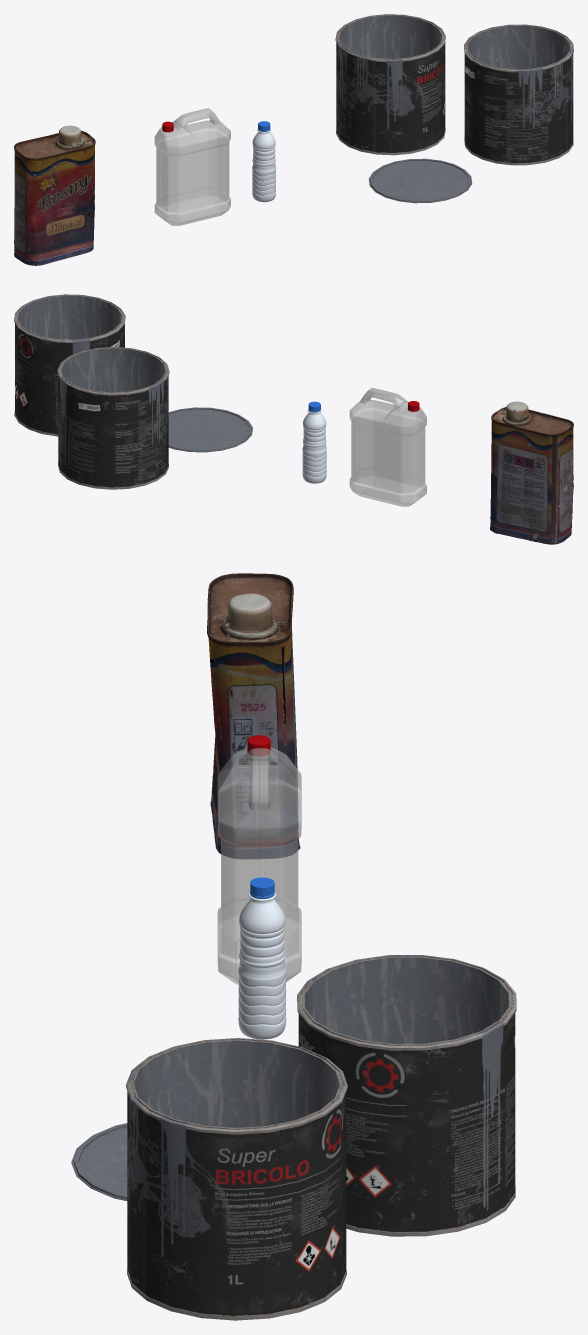
The model's file is Painting props.fbx.
3 renders of one model, top to bottom at view 1: azimuth 30°, elevation 25°; view 2: azimuth 150°, elevation 25°; view 3: azimuth 270°, elevation 25°, orthographic. The views are drawn at different scales.
Visible parts, largest first — view 1: _gltfNode_0.001, _gltfNode_0.037, Retopo_3DModel_mesh.001, Plastic jerry can, _gltfNode_0.025, Circle.000; view 2: _gltfNode_0.037, Retopo_3DModel_mesh.001, _gltfNode_0.001, Plastic jerry can, _gltfNode_0.025, Circle.000; view 3: _gltfNode_0.001, _gltfNode_0.037, Retopo_3DModel_mesh.001, Plastic jerry can, Circle.000, _gltfNode_0.025.
Part boxes in pixels (x1,y1,x2,y2): _gltfNode_0.001: (464, 24, 573, 165); _gltfNode_0.037: (335, 14, 445, 155); Retopo_3DModel_mesh.001: (14, 125, 95, 265); Plastic jerry can: (154, 108, 230, 225); _gltfNode_0.025: (368, 158, 472, 203); Circle.000: (252, 129, 276, 202); _gltfNode_0.037: (57, 347, 169, 489); Retopo_3DModel_mesh.001: (490, 401, 573, 544); _gltfNode_0.001: (14, 294, 125, 436); Plastic jerry can: (349, 388, 426, 506); _gltfNode_0.025: (168, 407, 252, 452); Circle.000: (302, 409, 326, 483); _gltfNode_0.001: (126, 1038, 347, 1320); _gltfNode_0.037: (297, 955, 516, 1236); Retopo_3DModel_mesh.001: (207, 573, 300, 858); Plastic jerry can: (217, 747, 301, 984); Circle.000: (238, 892, 286, 1039); _gltfNode_0.025: (71, 1123, 127, 1200).
Size of the model in its own units: 263 by 55.07 by 93.1.
9 materials, 2 textured.
